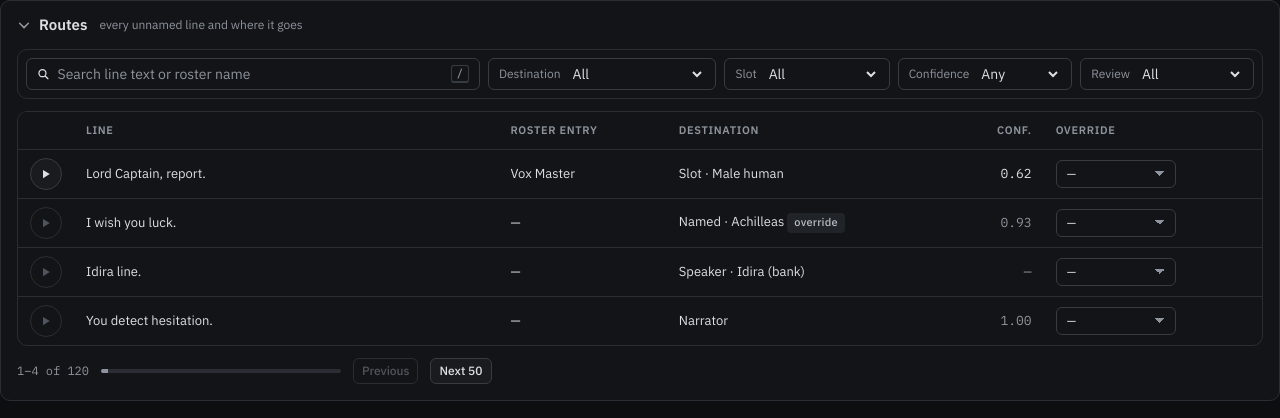
Test case: RoutesTable › shows an empty state and an error
Click the button "Next 50".
click(461, 370)  # box [430,358,492,384]
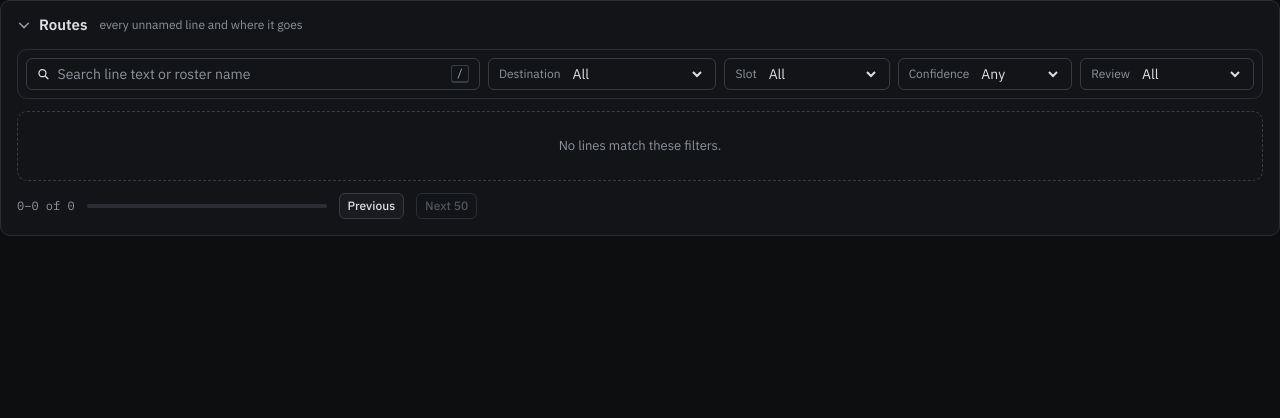
expect the text "No lines match these filters." is shown: met, box [559,136,721,156]
Click the button "Previous".
click(371, 206)  # box [339,192,404,218]
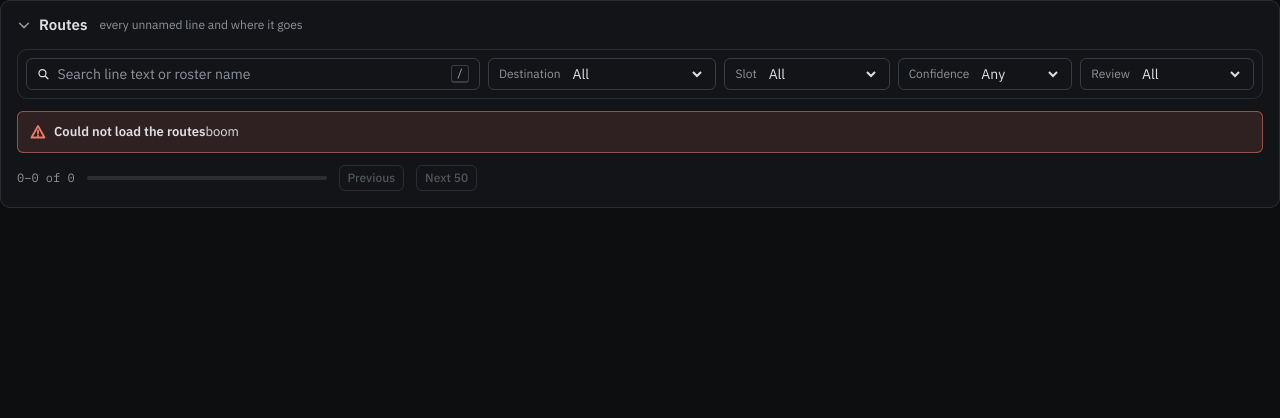
expect the text "boom" is shown: met, box [206,123,239,140]
